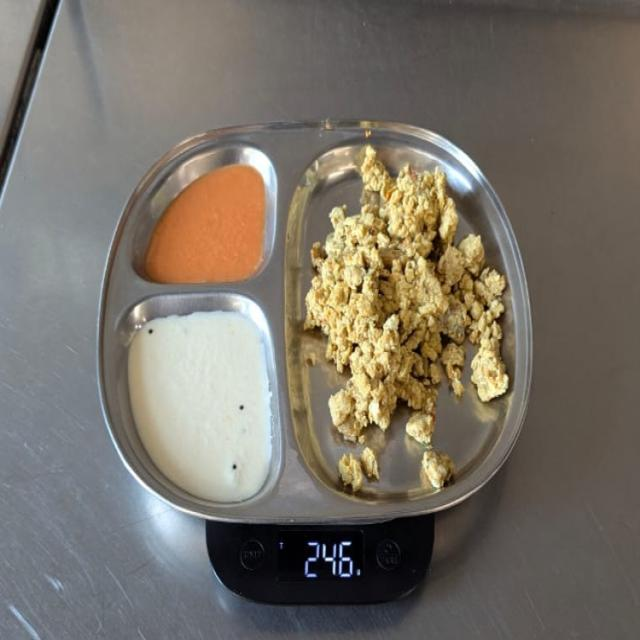Chutney: (122, 302, 276, 505), (133, 154, 278, 288)
Egg Bhurji: (298, 138, 511, 496)
